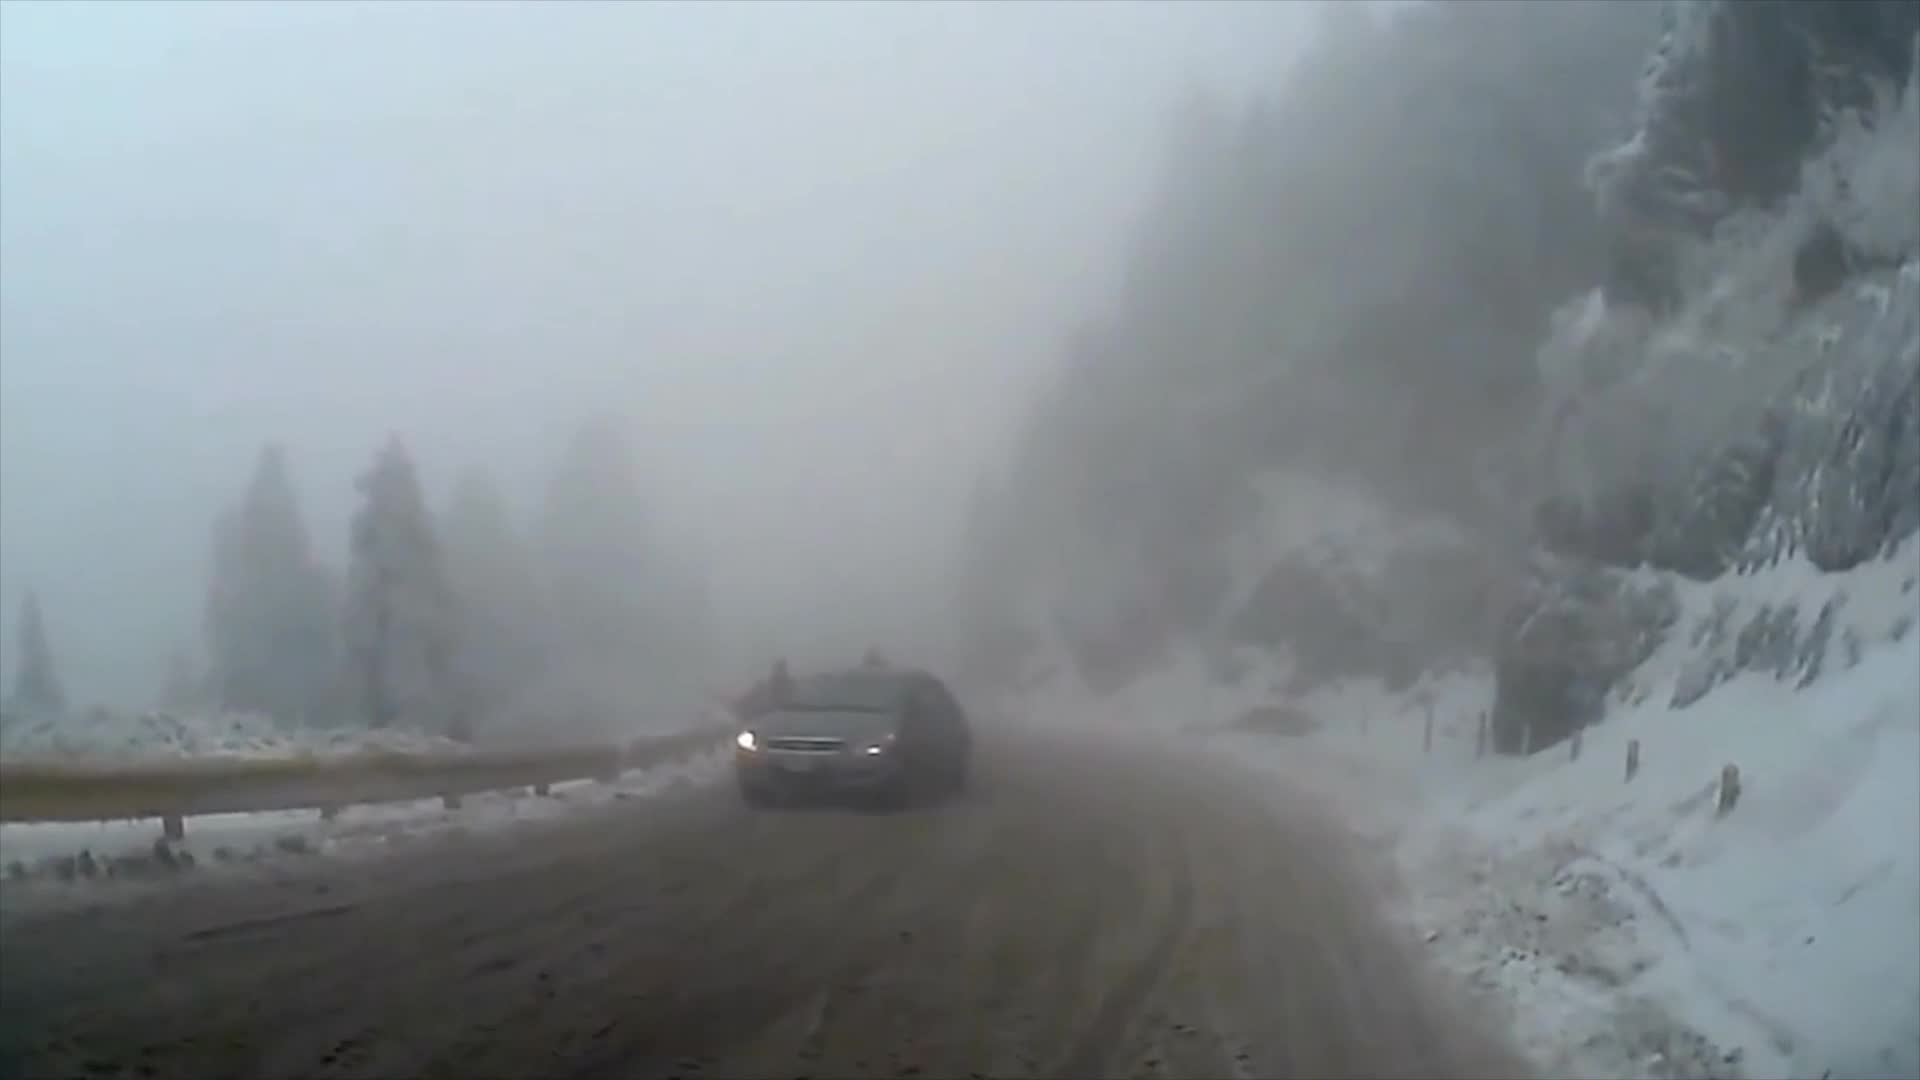vehicle: (735, 669, 973, 812)
